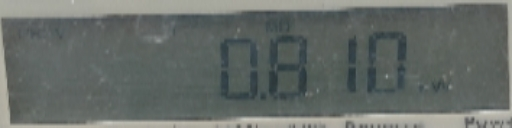0: (364, 27, 410, 97), (217, 27, 256, 107)
1: (343, 29, 358, 101)
9: (267, 32, 312, 104)
d: (256, 88, 271, 103)
